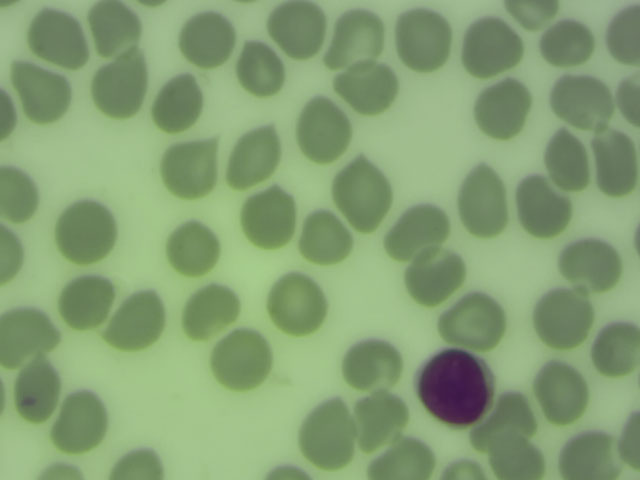RBC: (455, 159, 505, 235), (589, 131, 639, 199), (556, 423, 612, 480), (297, 210, 353, 266), (213, 332, 269, 388), (182, 284, 238, 340), (166, 220, 222, 276), (294, 102, 350, 158), (228, 129, 284, 185), (237, 39, 293, 95), (165, 142, 221, 198), (345, 335, 401, 391), (351, 390, 407, 446), (299, 404, 355, 460), (531, 361, 587, 417), (445, 291, 501, 347), (402, 249, 458, 305), (388, 202, 444, 258), (536, 289, 592, 345), (514, 176, 570, 232), (563, 233, 619, 289), (554, 76, 610, 132), (479, 81, 535, 137), (539, 16, 595, 72), (461, 18, 517, 74), (392, 11, 448, 67), (339, 55, 395, 111), (330, 2, 386, 58), (112, 293, 168, 349), (54, 390, 110, 446), (57, 272, 113, 328), (55, 202, 111, 258), (147, 74, 203, 130), (181, 12, 237, 68), (17, 69, 73, 125), (93, 59, 149, 115), (31, 11, 87, 67), (268, 275, 324, 331), (335, 161, 391, 217), (241, 190, 297, 246), (271, 1, 327, 56), (86, 1, 142, 56), (11, 361, 63, 416), (548, 120, 586, 194), (1, 158, 45, 221), (482, 394, 533, 447), (374, 437, 435, 480), (592, 322, 640, 372), (600, 5, 640, 63), (112, 439, 168, 480), (493, 437, 545, 480), (1, 310, 40, 363), (613, 406, 640, 480), (500, 1, 565, 23)
WBC: (411, 345, 502, 429)
